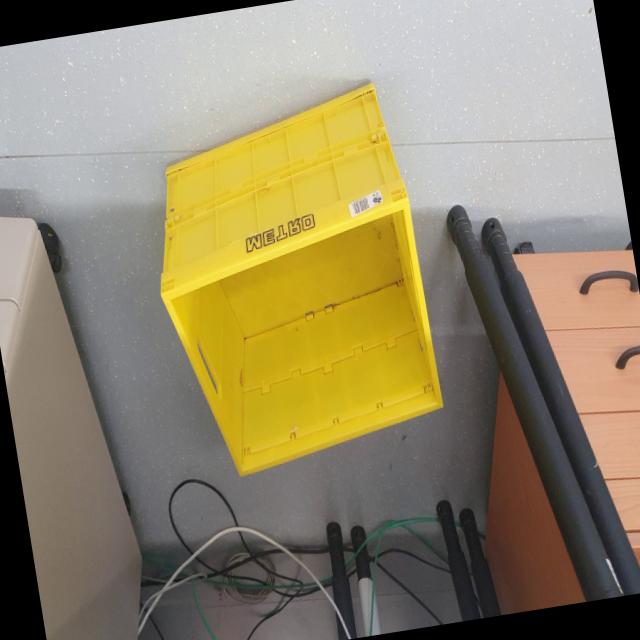box: (128, 71, 458, 496)
